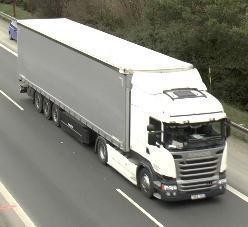Car: (8, 21, 17, 41)
Truck: (19, 22, 228, 202)
